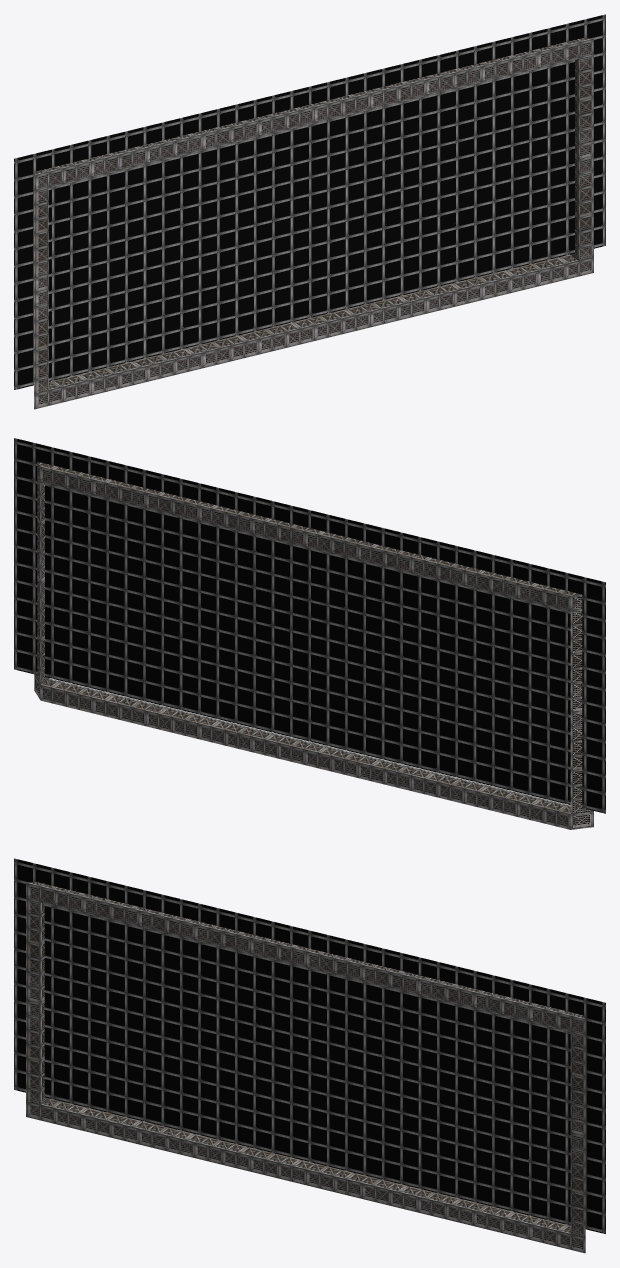
File: cage_wall.glb
3 views of the same model, one above another, from view 1: azimuth 30°, elevation 25°; view 2: azimuth 150°, elevation 25°; view 3: azimuth 330°, elevation 25° (orthographic).
Parts seen in each view (by area): view 1: cage; view 2: cage; view 3: cage.
Boxes of the visible parts, x1,y1,x2,y2 form: cage: (14,14,605,409); cage: (14,438,605,829); cage: (14,858,605,1253).
Bounding box in the file's own units: 168 × 68.24 × 4.28.
Materials: 2 (2 with a texture image).
